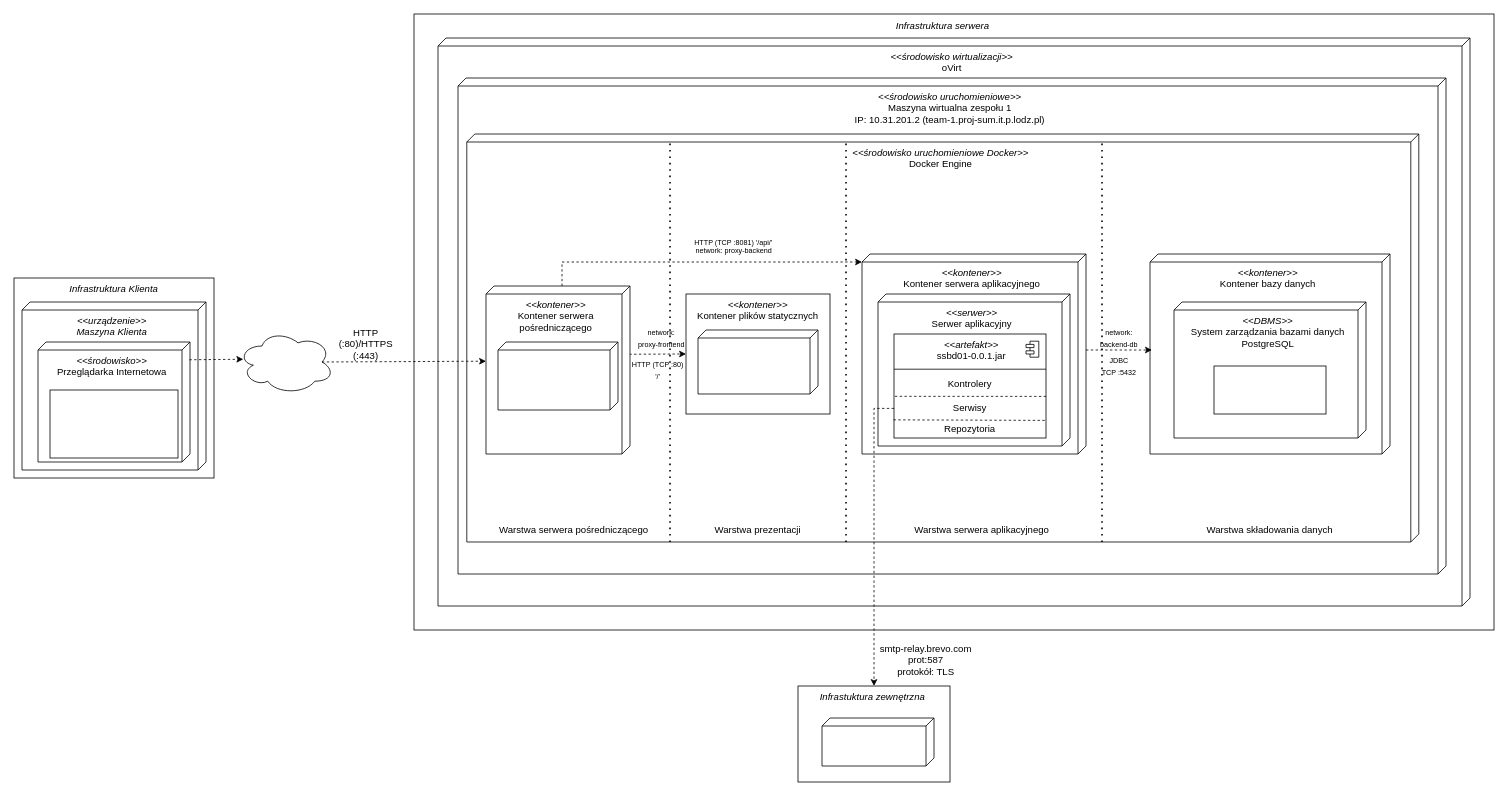
This 1508x796 diagram has some shape labels left out. Each missing label, with the centre of its shape:
"<<serwer>> Serwer Nginx (Reverse Proxy)" goes at pixel 557 375.
"<<serwer>> Serwer plików statycznych Nginx" goes at pixel 757 361.
"<<serwer>> SMTP Brevo" goes at pixel 877 741.
"baza danych" goes at pixel 1269 389.
"Interfejs użytkownika (Instancja aplikacji jednostronicowej SPA)" goes at pixel 113 423.
"Internet" goes at pixel 285 361.
